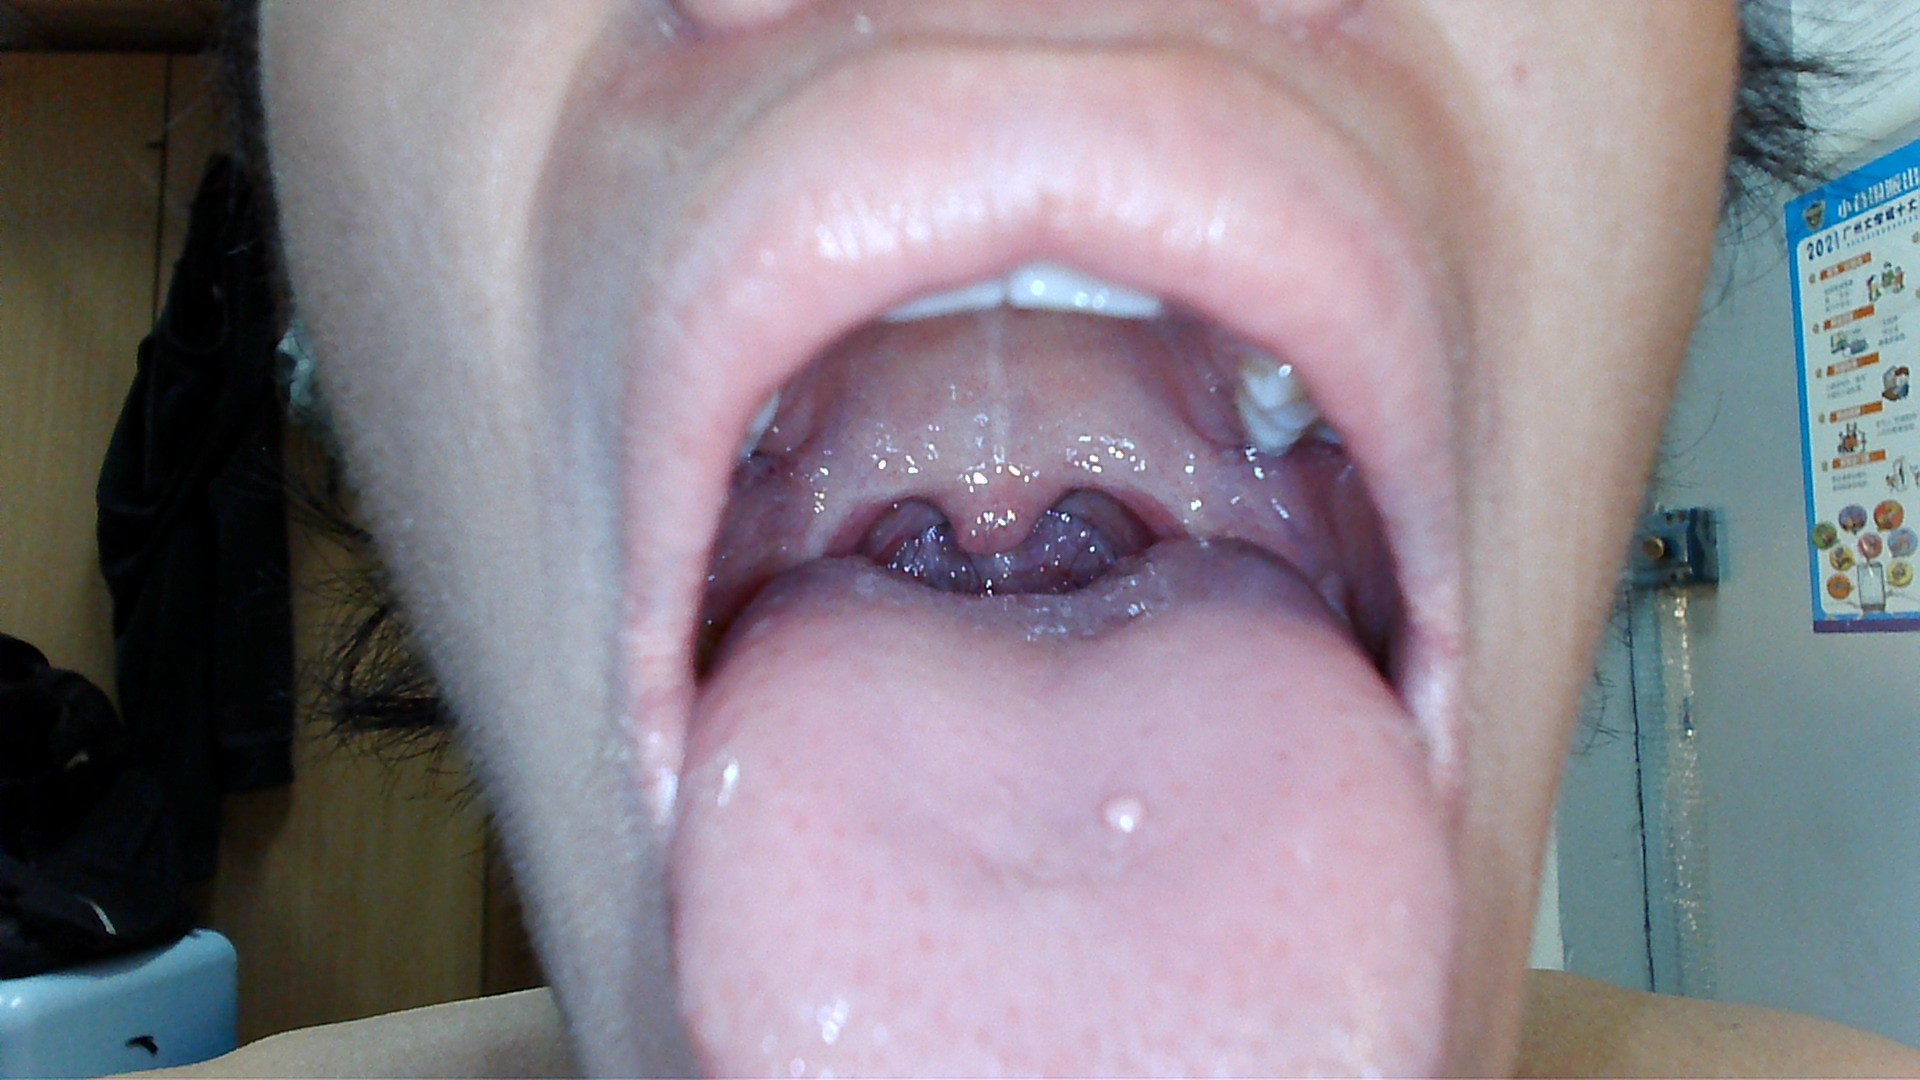throat: (1098, 436, 1185, 541), (818, 456, 902, 556)
